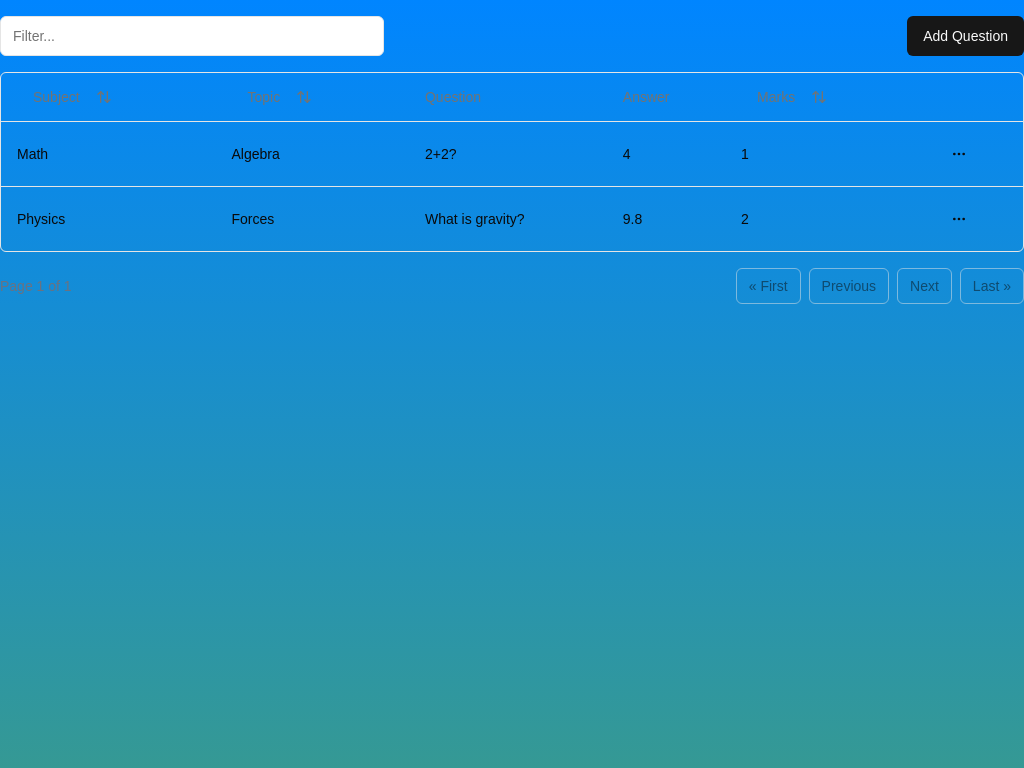
it: Questions Data Table › opens add question dialog on button click
Click the button "Add Question": (966, 36) [907,16,1023,56]
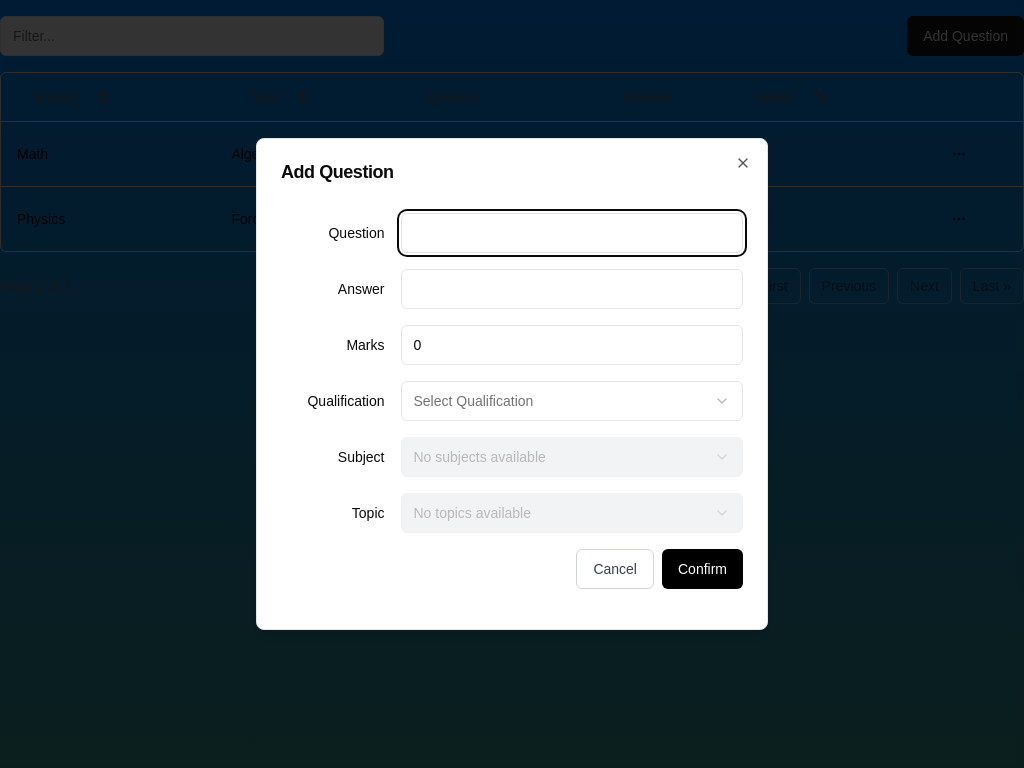
Result: the heading "Add Question" is shown at [281,162,394,182]
Result: the field labelled "Question" is shown at [400,213,743,253]
Result: the field labelled "Answer" is shown at [400,269,743,309]
